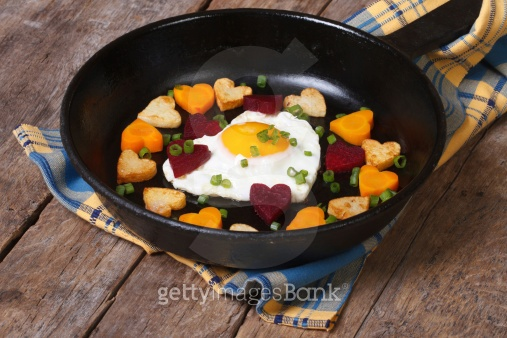fried egg: (158, 108, 328, 206)
